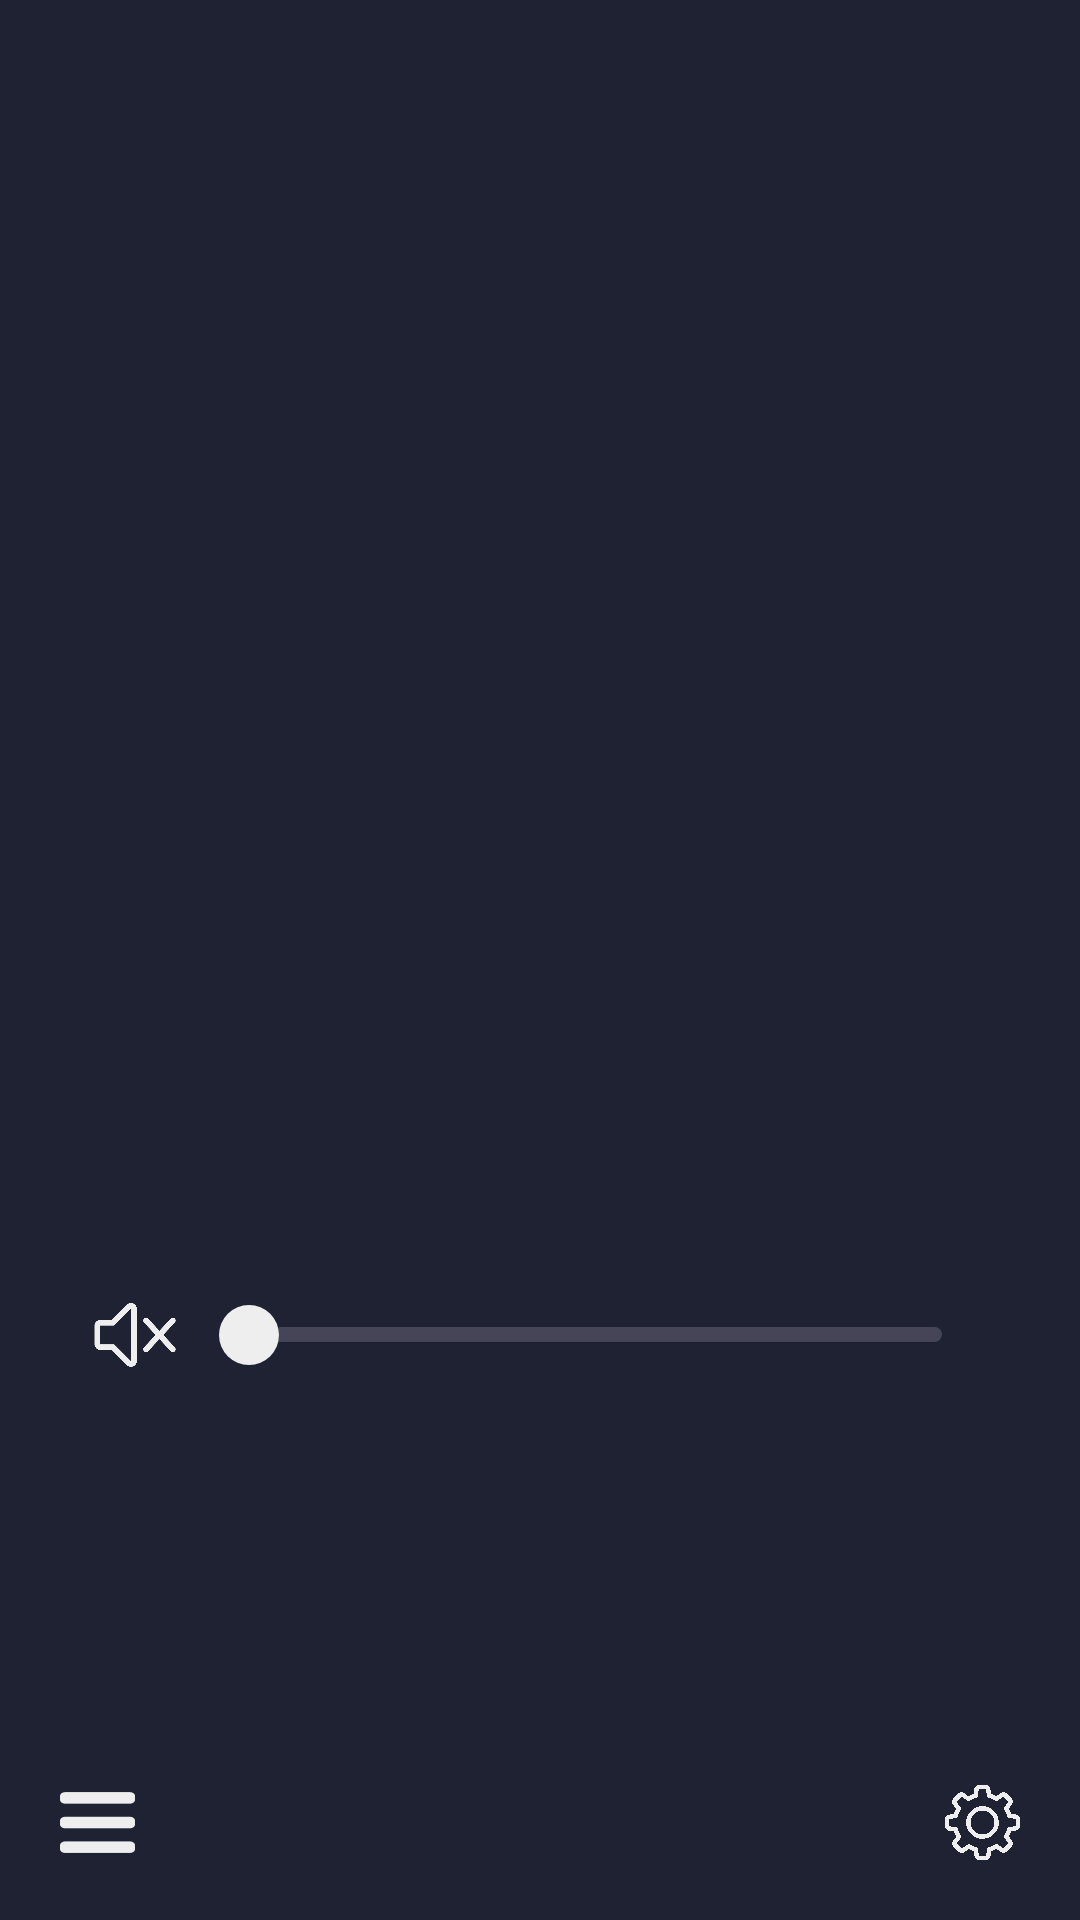

Locate icon controls on the screen. Image size 1080px×1920px, boxes as box(x1, y1, x2, y2).
menu: box(60, 1792, 135, 1853)
settings: box(945, 1785, 1020, 1860)
volume mute: box(94, 1303, 176, 1367)
